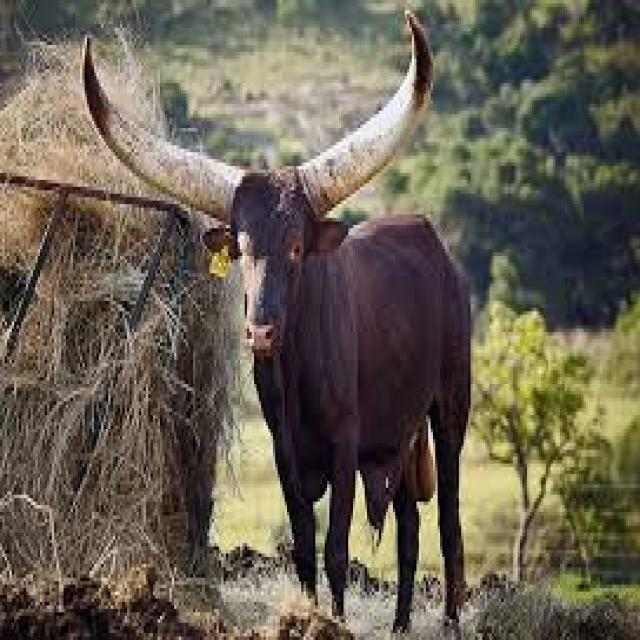cowFace: (73, 31, 447, 384)
